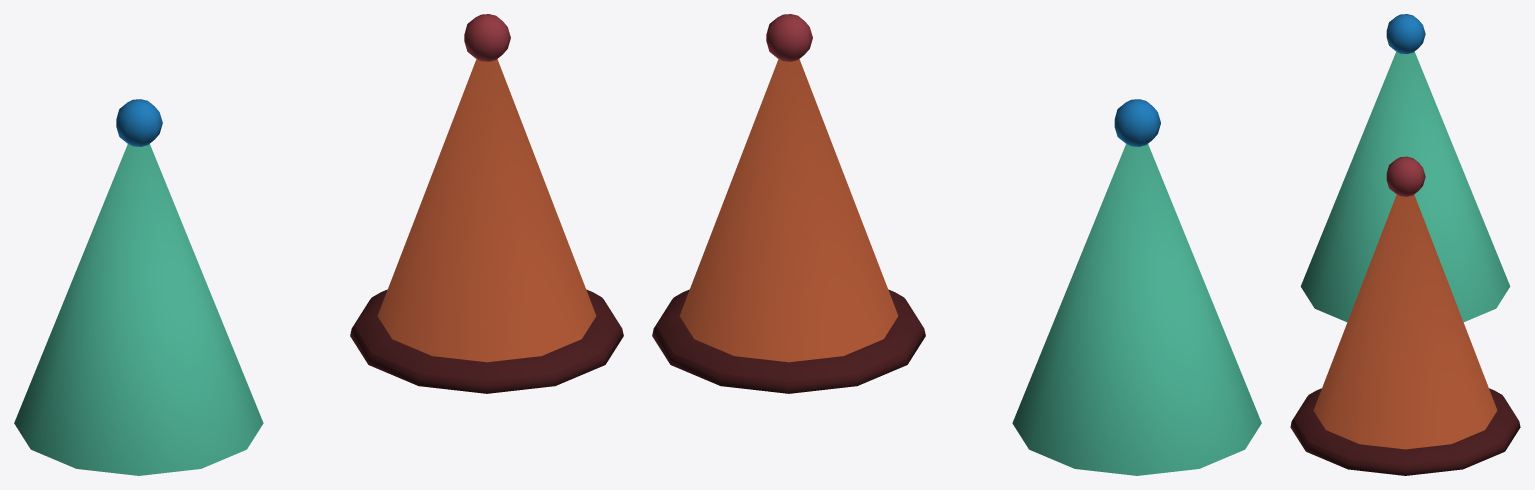
The model's file is 1 birthday hat_low.fbx.
3 renders of one model, left to right at view 1: azimuth 30°, elevation 25°; view 2: azimuth 150°, elevation 25°; view 3: azimuth 270°, elevation 25°, orthographic. The views are drawn at different scales.
Visible parts, largest first — view 1: Decoration_PartyHat_2, Decoration_PartyHat_1; view 2: Decoration_PartyHat_2, Decoration_PartyHat_1; view 3: Decoration_PartyHat_2, Decoration_PartyHat_1.
Part boxes in pixels (left/top/right/bottom): Decoration_PartyHat_2: left=350, top=14, right=623, bottom=393; Decoration_PartyHat_1: left=14, top=99, right=263, bottom=475; Decoration_PartyHat_2: left=652, top=14, right=925, bottom=393; Decoration_PartyHat_1: left=1012, top=99, right=1261, bottom=475; Decoration_PartyHat_2: left=1290, top=156, right=1520, bottom=475; Decoration_PartyHat_1: left=1300, top=14, right=1510, bottom=321.
Size of the model in its own units: 60.45 by 32.38 by 24.94.
